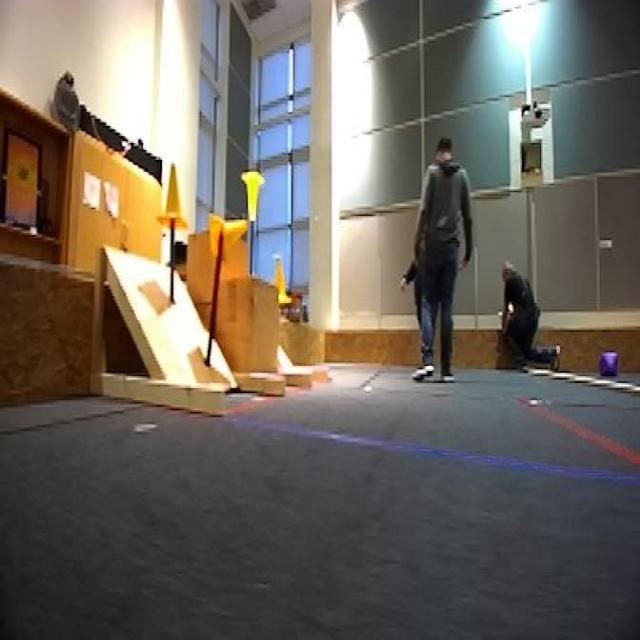frc_cone: (161, 164, 191, 236), (206, 213, 246, 262), (241, 165, 266, 226), (274, 255, 292, 315)
frc_cube: (599, 351, 619, 383)
